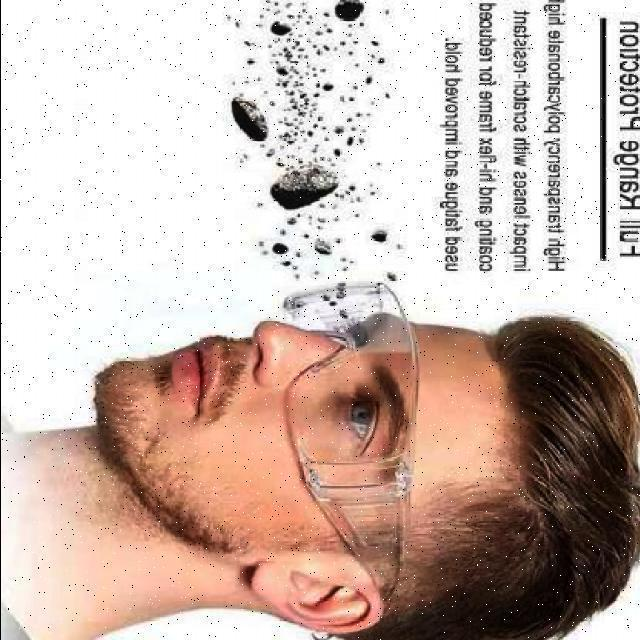Goggles: (268, 272, 428, 640)
